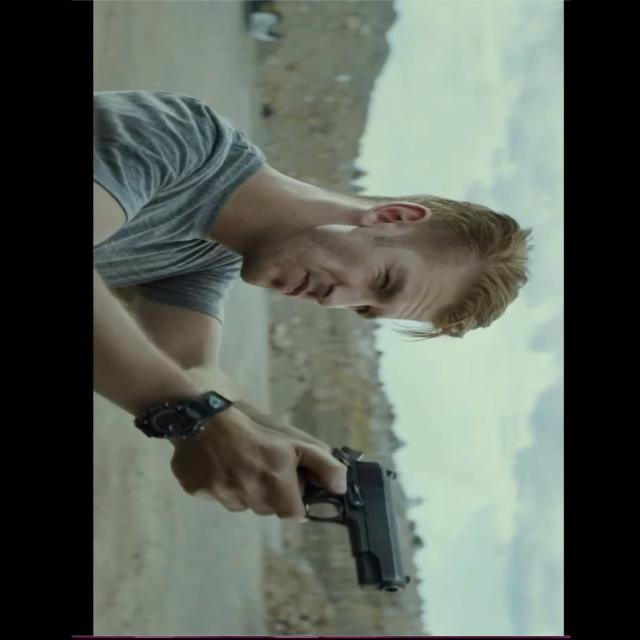weapons: (268, 443, 438, 598)
